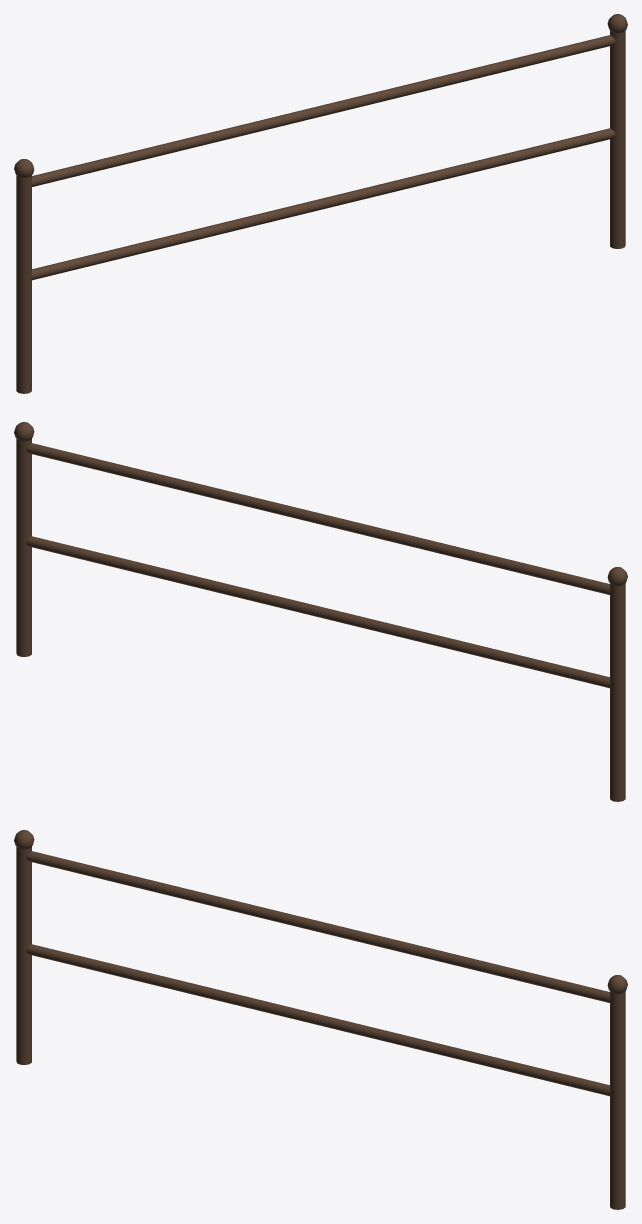
The model's file is fence.glb.
3 renders of one model, top to bottom at view 1: azimuth 30°, elevation 25°; view 2: azimuth 150°, elevation 25°; view 3: azimuth 330°, elevation 25°, orthographic.
Visible parts, largest first — view 1: steel4, steel5, steel0, steel1; view 2: steel4, steel5, steel0, steel1; view 3: steel4, steel5, steel1, steel0.
Part boxes in pixels (box(x1,y1,x2,y2)): steel4: box(31, 128, 615, 280); steel5: box(31, 35, 615, 186); steel0: box(16, 175, 31, 393); steel1: box(610, 30, 625, 248); steel4: box(26, 536, 610, 688); steel5: box(26, 443, 610, 594); steel0: box(610, 583, 625, 801); steel1: box(16, 438, 31, 656); steel4: box(26, 944, 610, 1096); steel5: box(26, 851, 610, 1002); steel1: box(610, 991, 625, 1209); steel0: box(16, 846, 31, 1064).
Size of the model in its own units: 3.09 by 1.11 by 0.0856.
